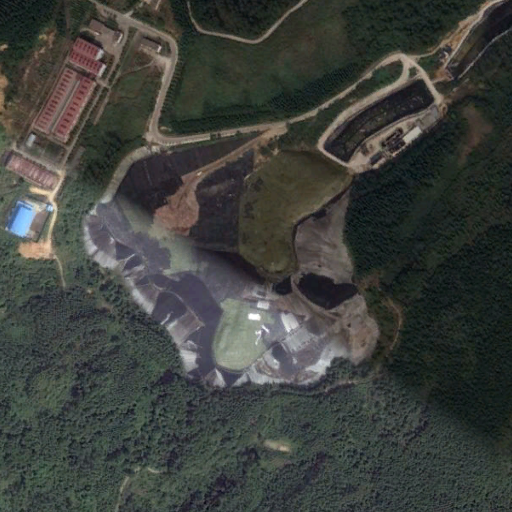lf: (85, 133, 378, 389)
